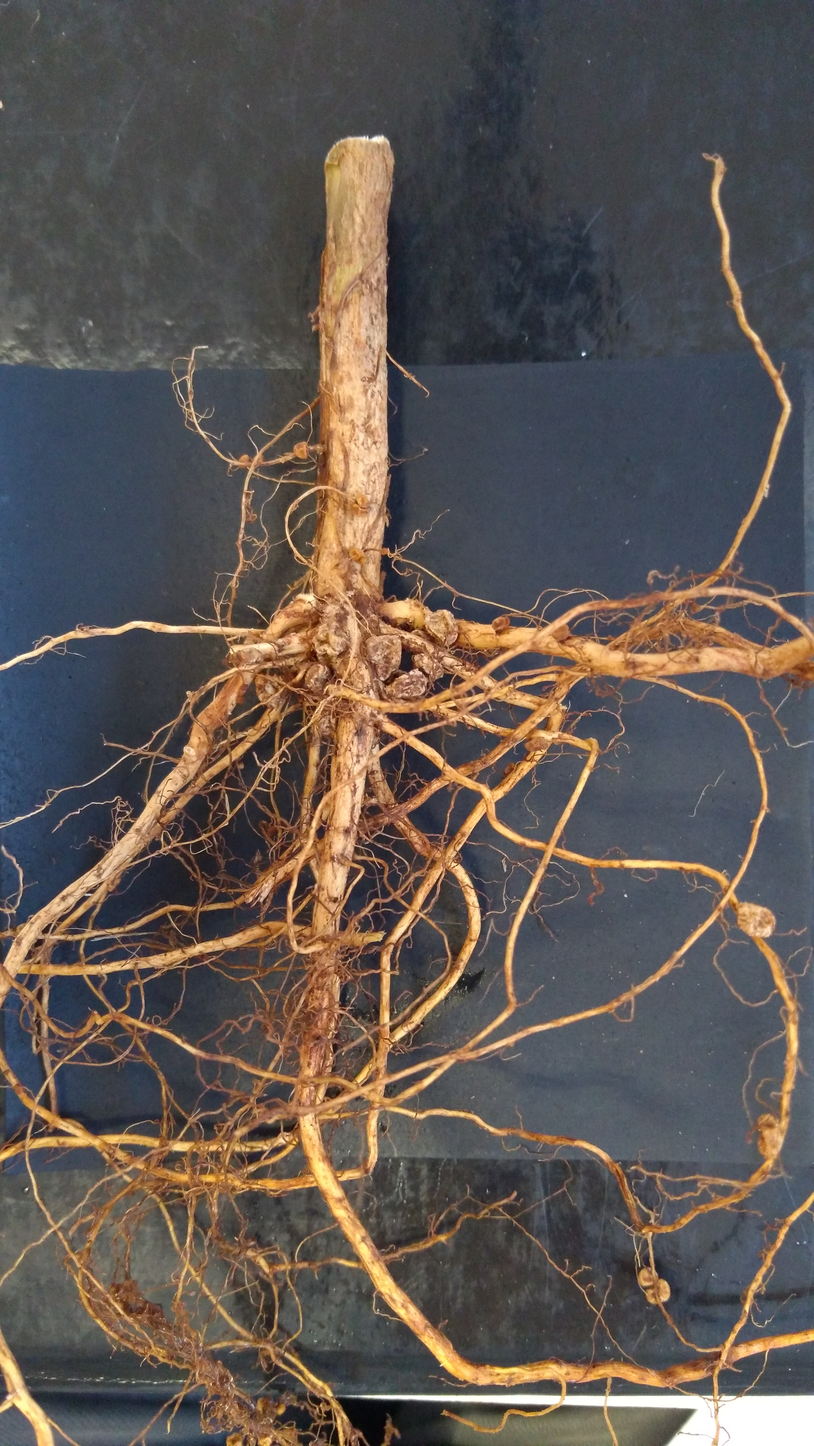nodule: (745, 1110, 795, 1168), (309, 597, 355, 659), (360, 628, 407, 683), (378, 664, 432, 705), (733, 899, 780, 942), (249, 670, 292, 714), (422, 604, 462, 649), (408, 648, 447, 685), (301, 661, 337, 695), (639, 1276, 674, 1304), (315, 711, 338, 744), (635, 1264, 662, 1291), (521, 733, 550, 758), (490, 613, 517, 637), (350, 494, 373, 519), (291, 441, 313, 460), (501, 758, 519, 780), (252, 1395, 270, 1414), (552, 624, 572, 641), (221, 1429, 242, 1445), (235, 452, 250, 470), (274, 1402, 288, 1419), (255, 1435, 273, 1445), (607, 634, 612, 640)
